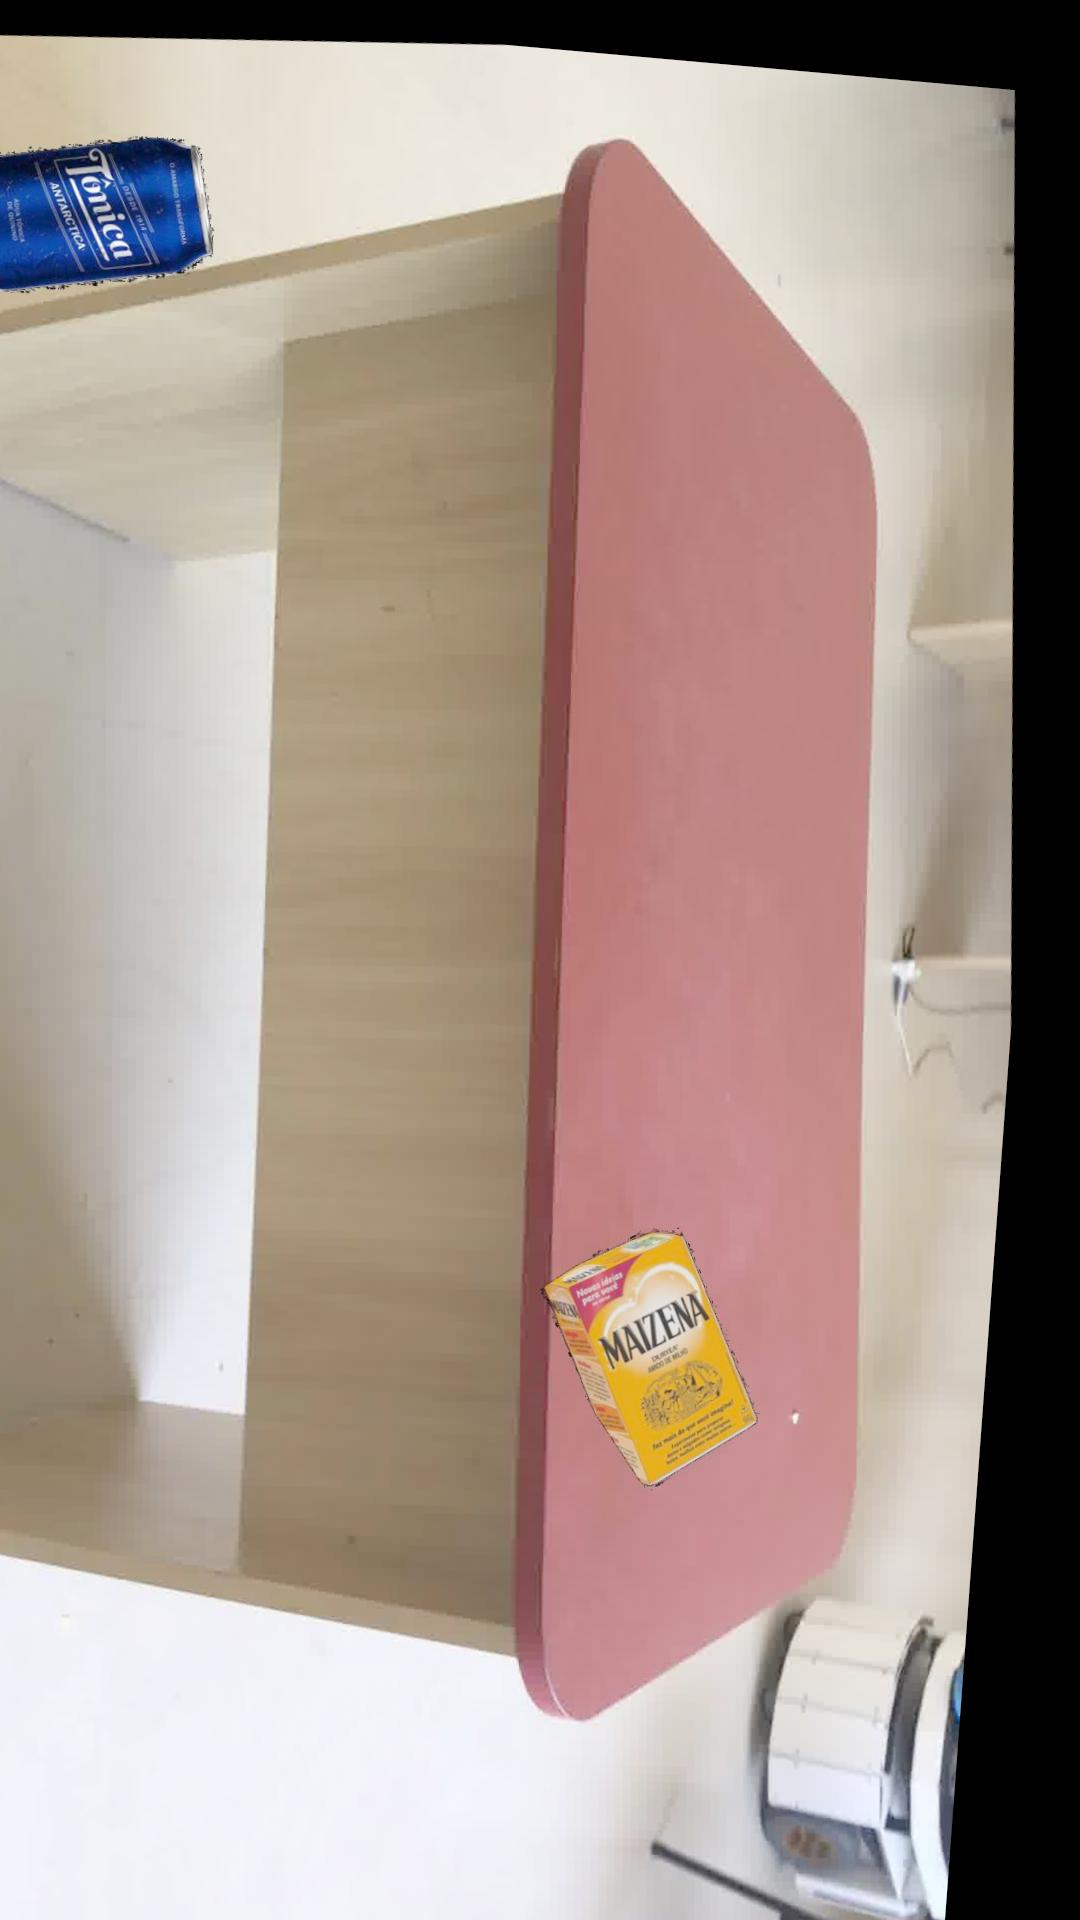tonic: (0, 135, 215, 293)
